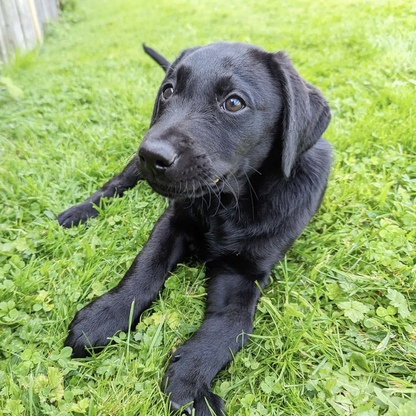labrado: (52, 39, 337, 416)
